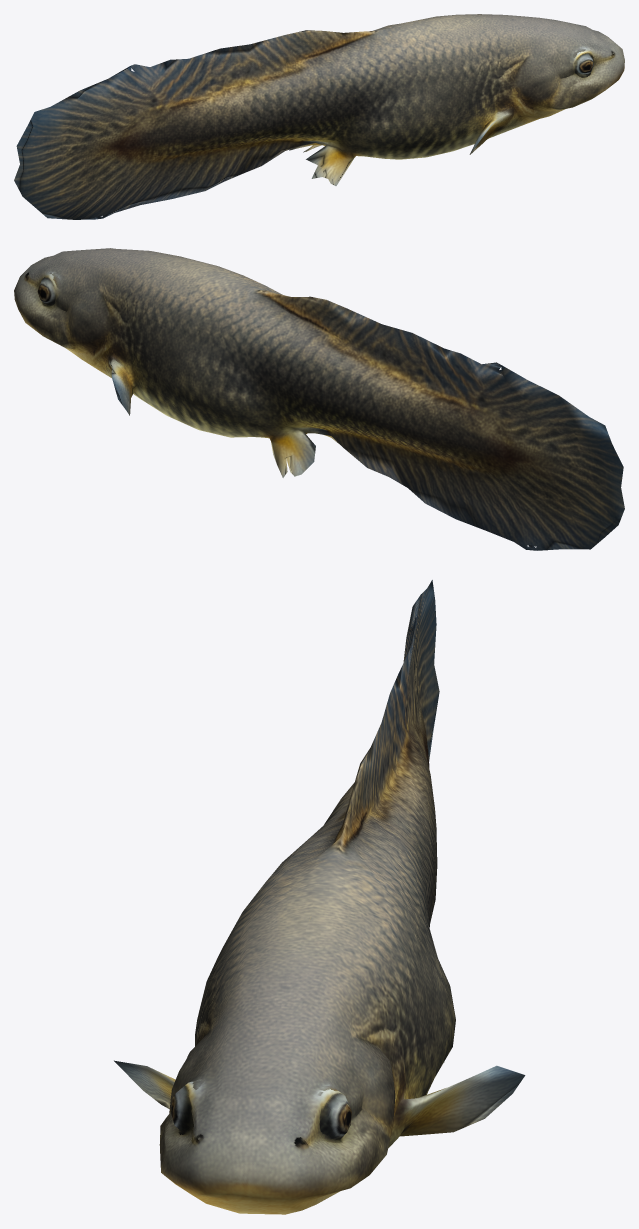
File: tadpole_single_1500.glb
The picture shows the model from 3 angles, top to bottom: view 1: azimuth 30°, elevation 25°; view 2: azimuth 150°, elevation 25°; view 3: azimuth 270°, elevation 25°; orthographic projection. The views are drawn at different scales.
Bounding box in the file's own units: 0.7951 × 0.2109 × 0.2536.
Materials: 1 (1 with a texture image).
